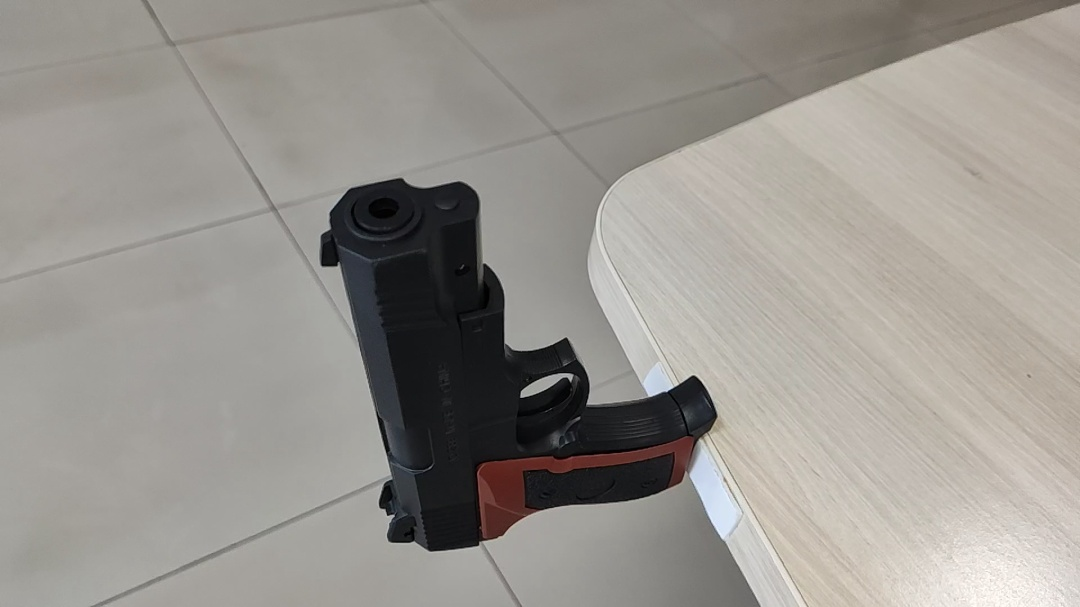gun: (316, 172, 720, 551)
